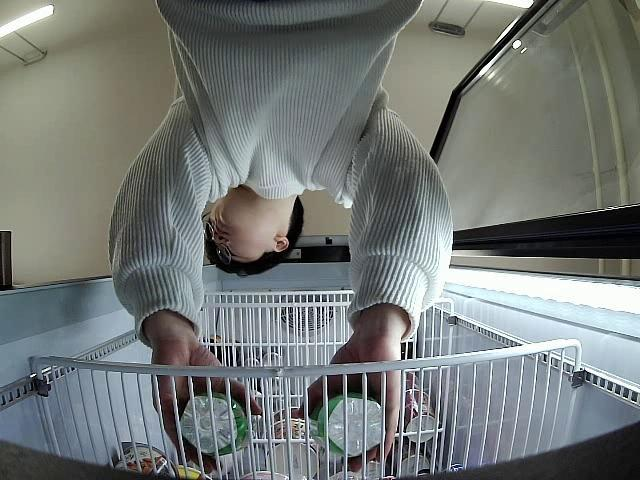18_trevi: (314, 392, 385, 458), (180, 391, 251, 456)
